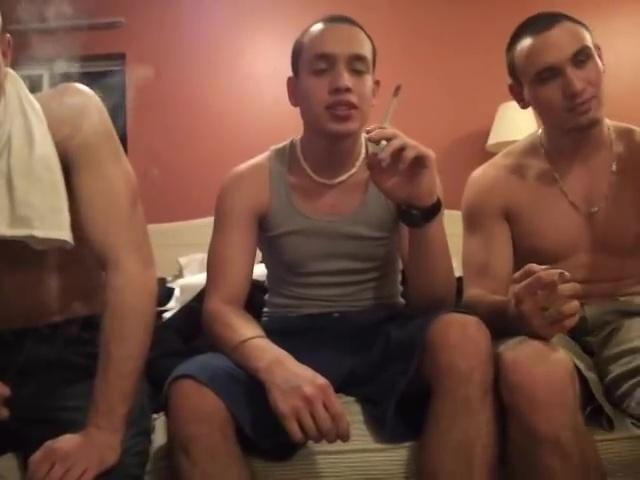cigarette: (382, 80, 406, 131), (552, 269, 569, 285)
